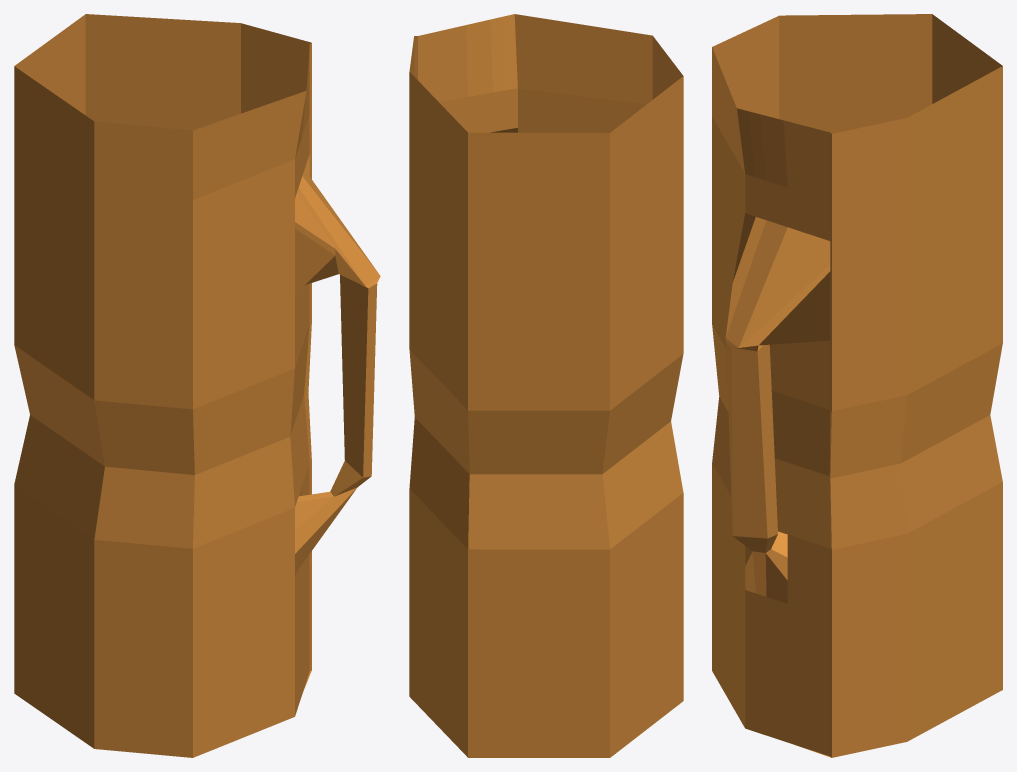
The model's file is cup.obj.
3 renders of one model, left to right at view 1: azimuth 30°, elevation 25°; view 2: azimuth 150°, elevation 25°; view 3: azimuth 270°, elevation 25°, orthographic.
Parts seen in each view (by area): view 1: Plane; view 2: Plane; view 3: Plane.
Boxes of the visible parts, box(x1,y1,x2,y2) form: Plane: box(14, 14, 380, 757); Plane: box(409, 14, 683, 757); Plane: box(712, 14, 1002, 757).
Bounding box in the file's own units: 0.9016 × 2 × 0.8447.
